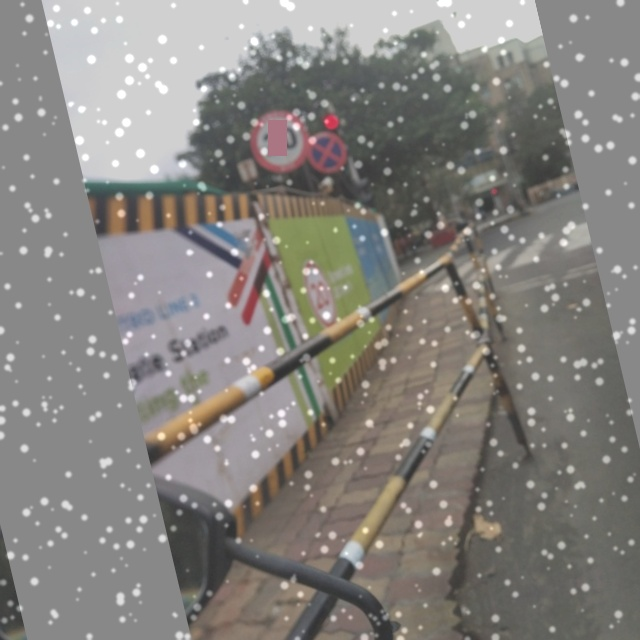Speed_Limit_20: (242, 104, 314, 176)
